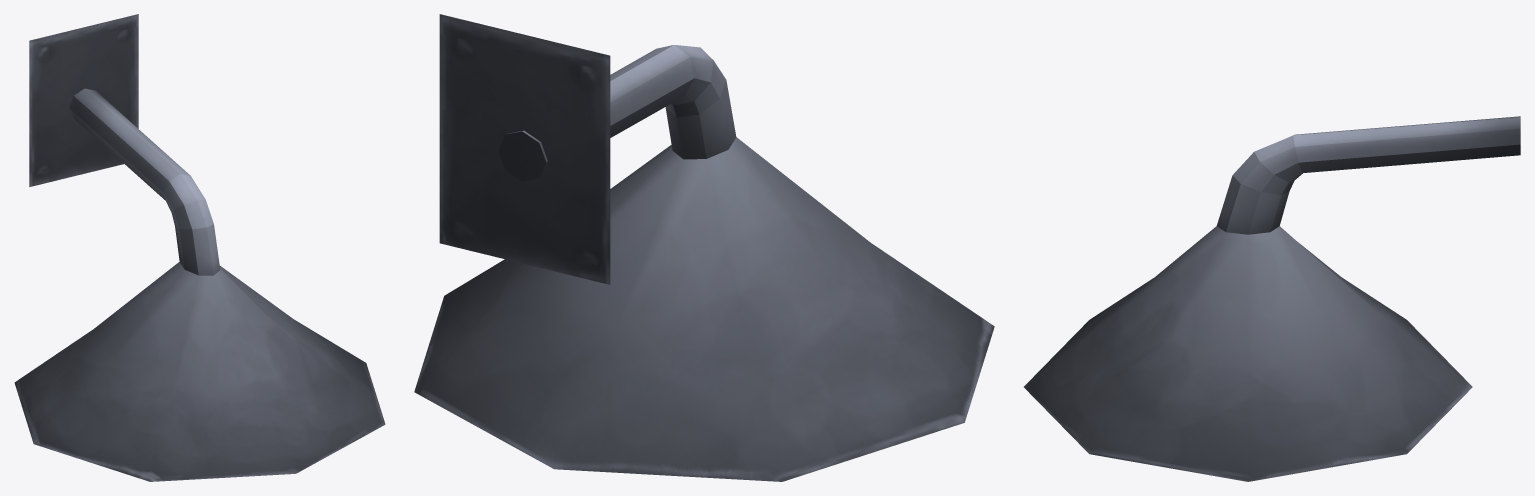
The model's file is lamp.FBX.
3 views of the same model, side by side, from view 1: azimuth 30°, elevation 25°; view 2: azimuth 150°, elevation 25°; view 3: azimuth 270°, elevation 25° (orthographic). The views are drawn at different scales.
Parts seen in each view (by area): view 1: lamp; view 2: lamp; view 3: lamp.
Boxes of the visible parts, x1=… form: lamp: x1=14, y1=14, x2=385, y2=481; lamp: x1=414, y1=14, x2=994, y2=481; lamp: x1=1024, y1=116, x2=1520, y2=481.
Bounding box in the file's own units: 3.67 × 3.08 × 4.06.
Materials: 1 (1 with a texture image).
